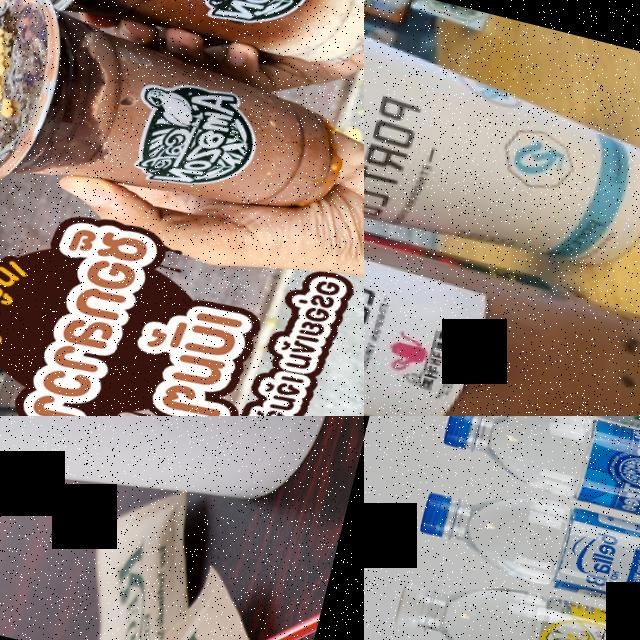bottle: (413, 476, 640, 640), (440, 416, 640, 582), (389, 559, 640, 640), (462, 416, 640, 498)
can: (364, 167, 640, 416)
cup: (0, 0, 364, 265), (364, 0, 640, 296), (0, 416, 364, 582), (8, 0, 364, 84)
